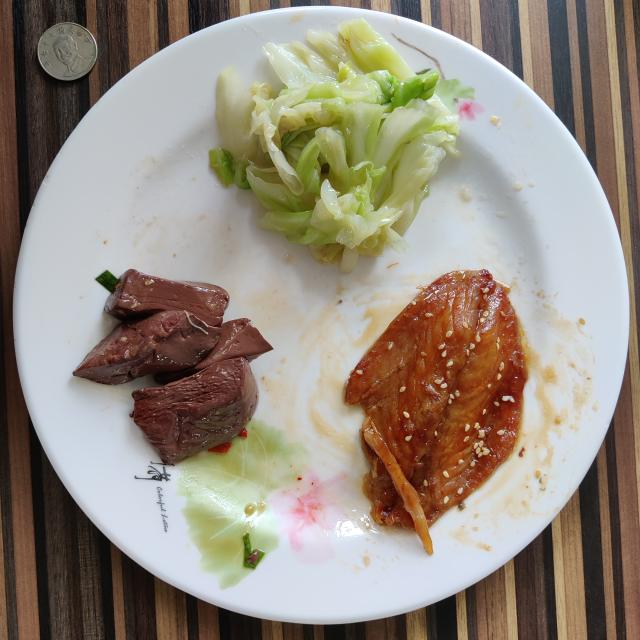Kabayaki sea bream fillet: (345, 270, 528, 554)
cabbage: (210, 19, 460, 272)
coin: (38, 22, 98, 80)
pig blood curd: (74, 269, 271, 464)
